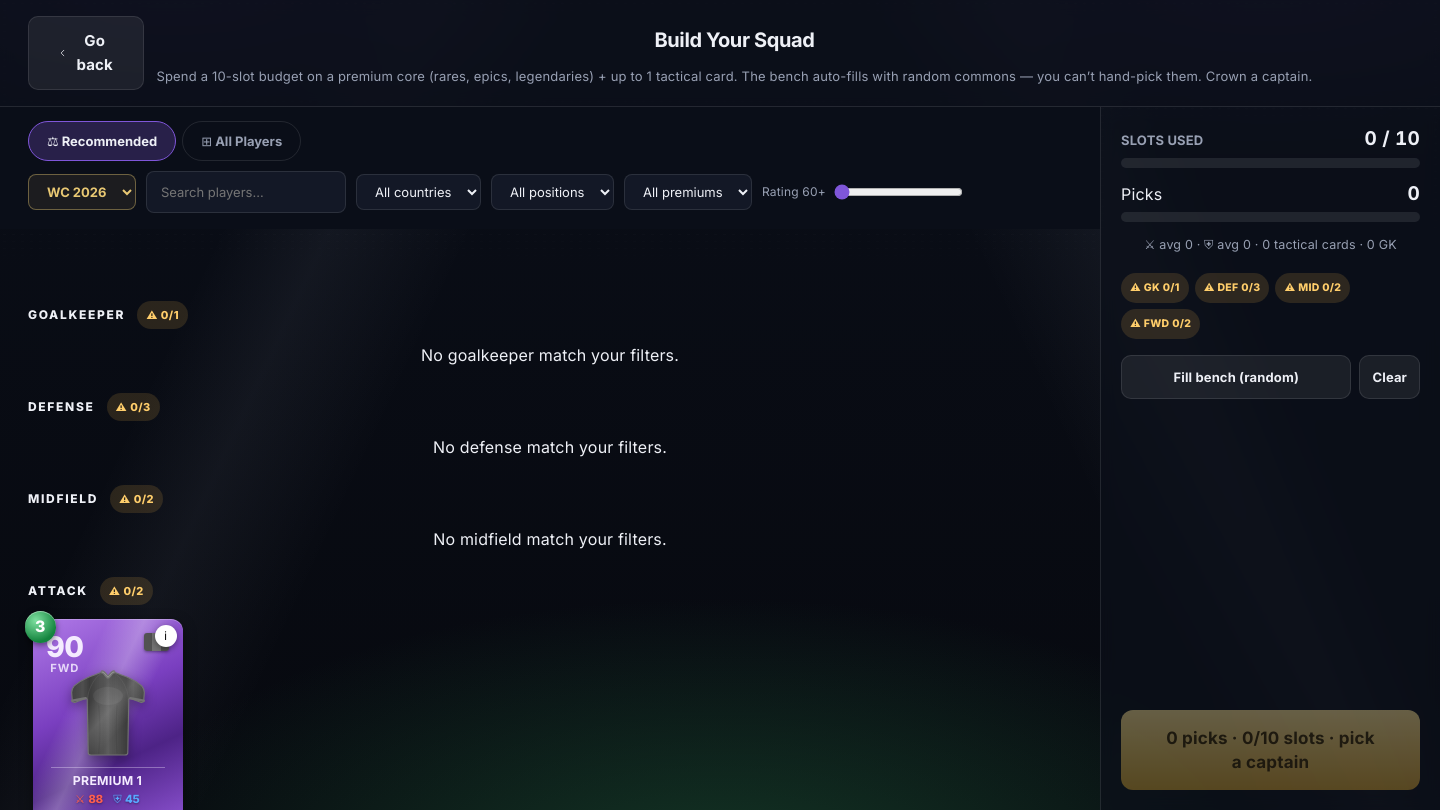
DeckBuilder › Arcade XI builder (playerBudget=10, tacticalCap=1, rosterSize=11) › clicking Fill bench does not throw and updates picks pane
The width and height of the screenshot is (1440, 810).
Expected: the text "10-slot budget" is shown, [156, 68, 1312, 84]
Click the button "Fill bench (random)": (1236, 377) [1121, 355, 1352, 399]
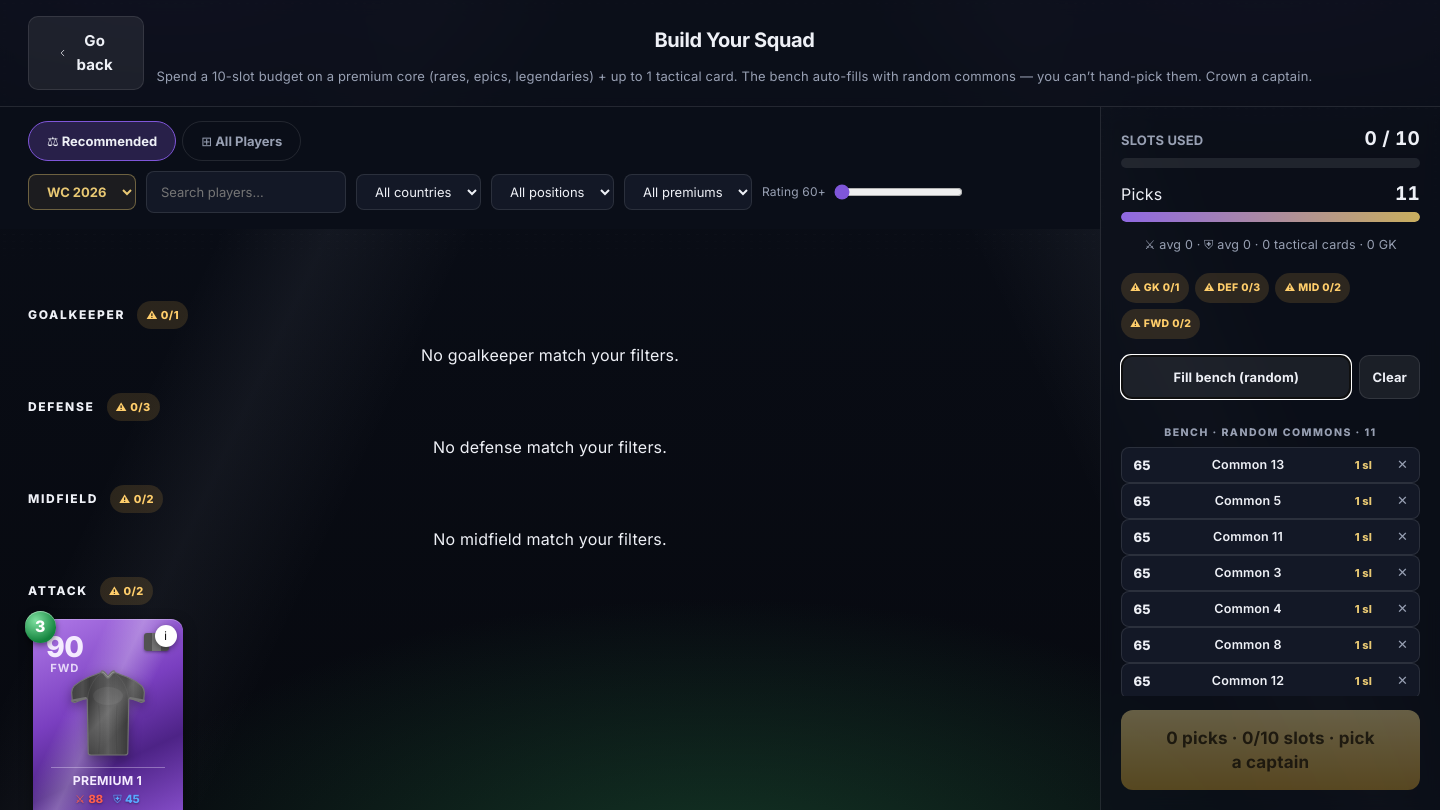
Result: the text "Bench · random commons · 11" is shown at [1164, 426, 1377, 439]
